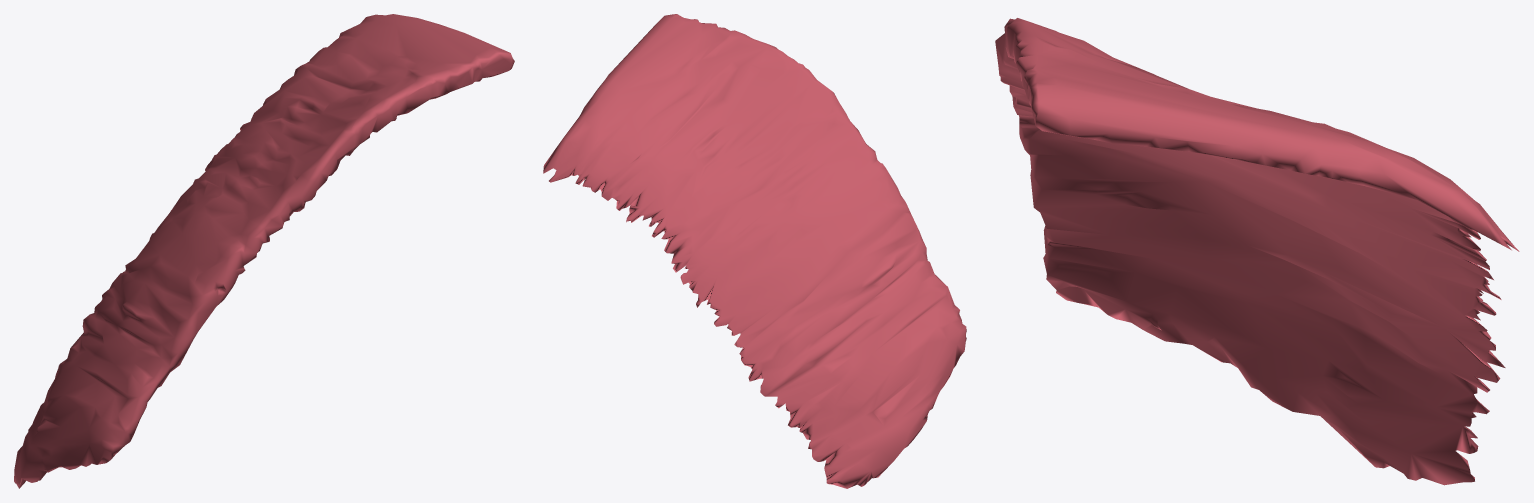
3 renders of one model, left to right at view 1: azimuth 30°, elevation 25°; view 2: azimuth 150°, elevation 25°; view 3: azimuth 270°, elevation 25°, orthographic. The views are drawn at different scales.
Parts seen in each view (by area): view 1: 右侧枕肌; view 2: 右侧枕肌; view 3: 右侧枕肌.
Boxes of the visible parts, left/top/right/bottom form: 右侧枕肌: left=14, top=14, right=514, bottom=488; 右侧枕肌: left=543, top=14, right=966, bottom=488; 右侧枕肌: left=995, top=18, right=1519, bottom=485.
Bounding box in the file's own units: 0.0686 × 0.0686 × 0.0487.
